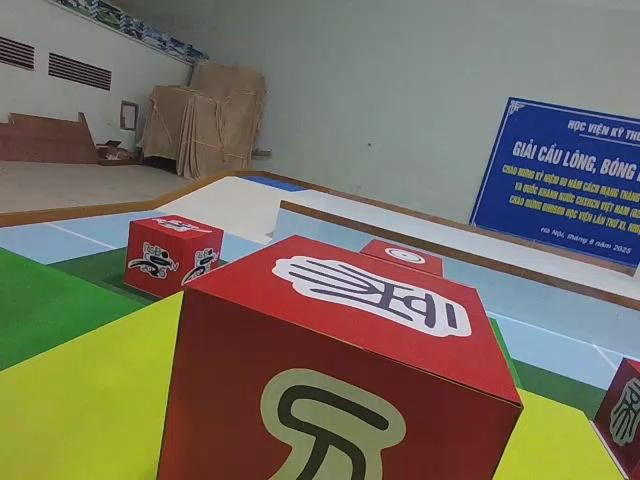R1: (121, 212, 225, 300)
R2 Fake: (153, 230, 526, 480), (590, 353, 640, 480)
